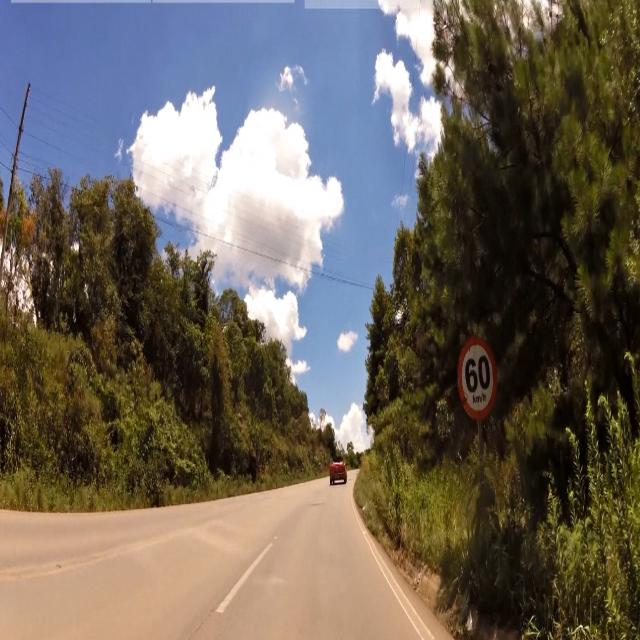R-19: (455, 334, 500, 422)
